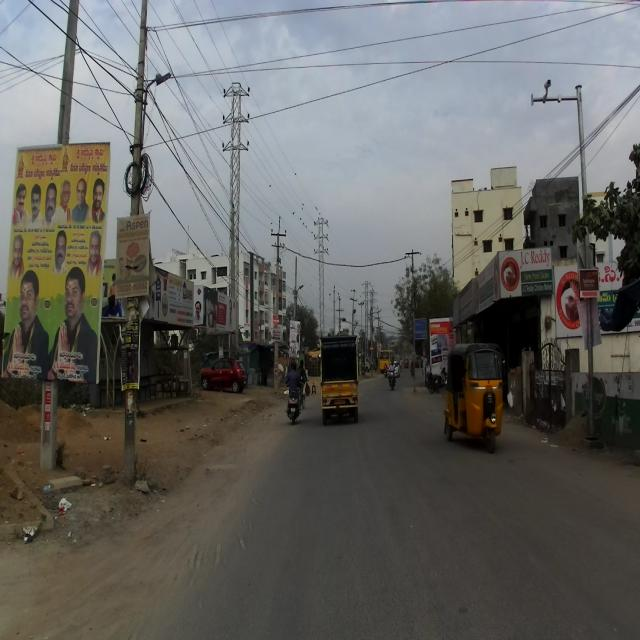auto ahead at: (444, 344, 504, 452)
car ahead at: (316, 329, 362, 424)
electric pole ahead at: (111, 0, 167, 476)
